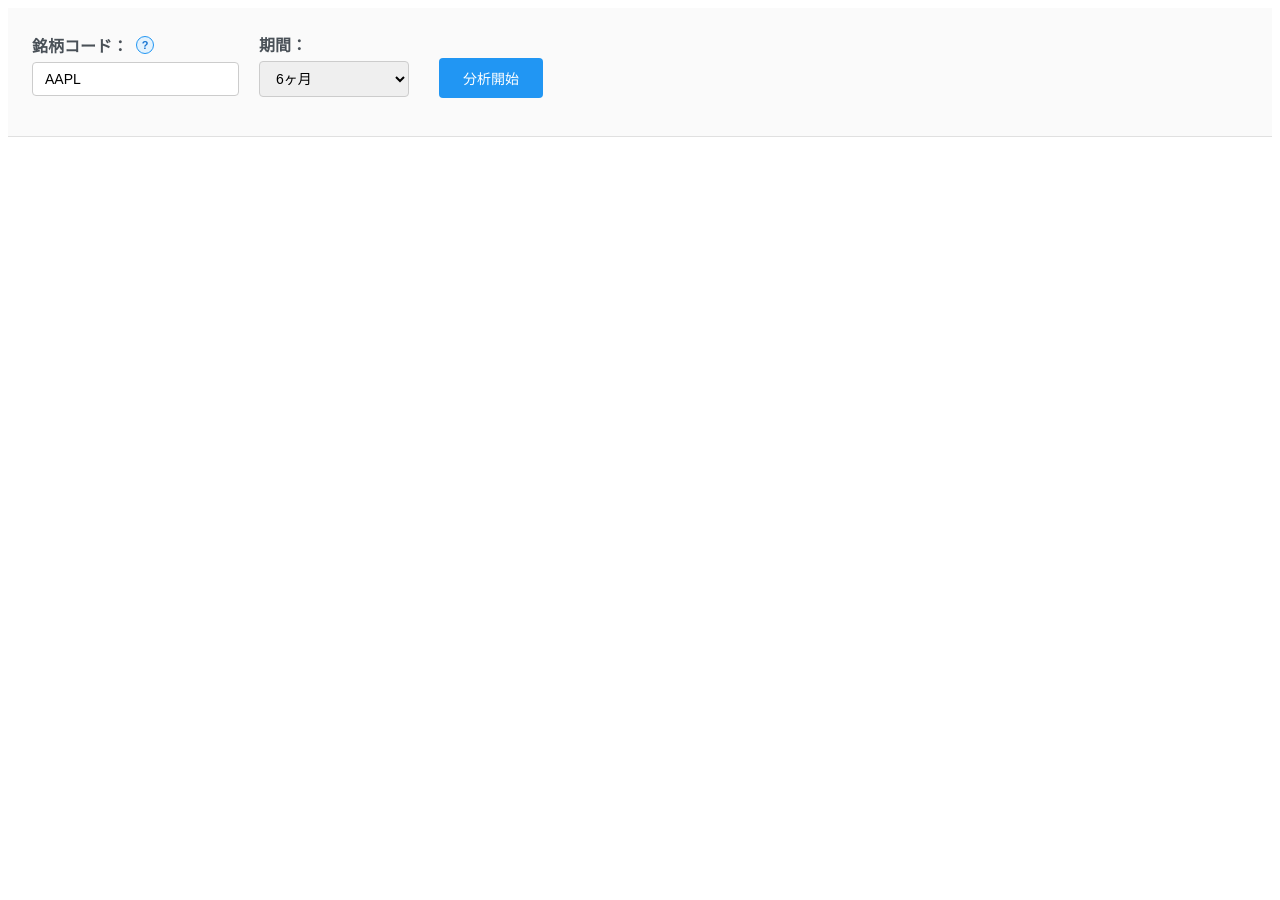
StockForm › ツールチップの閉じるボタンが機能する
// ツールチップを開く
Click the button named "ヘルプを表示" at (145, 45), box 136,36 -> 154,54
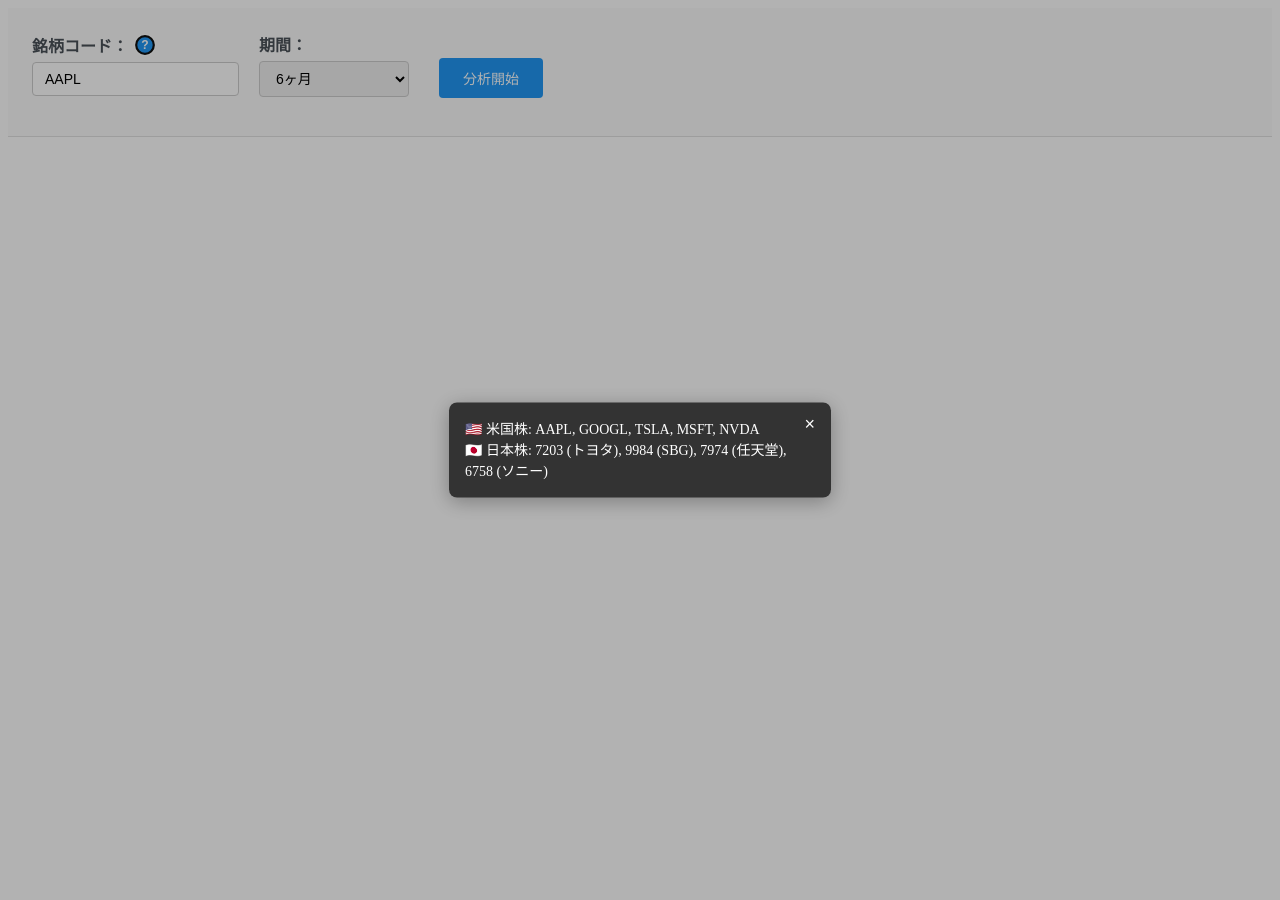
Expected: the text "🇺🇸 米国株" is shown, 465,422 -> 760,436
// 閉じるボタンをクリック
Click the button named "閉じる" at (810, 424), box 800,410 -> 819,436
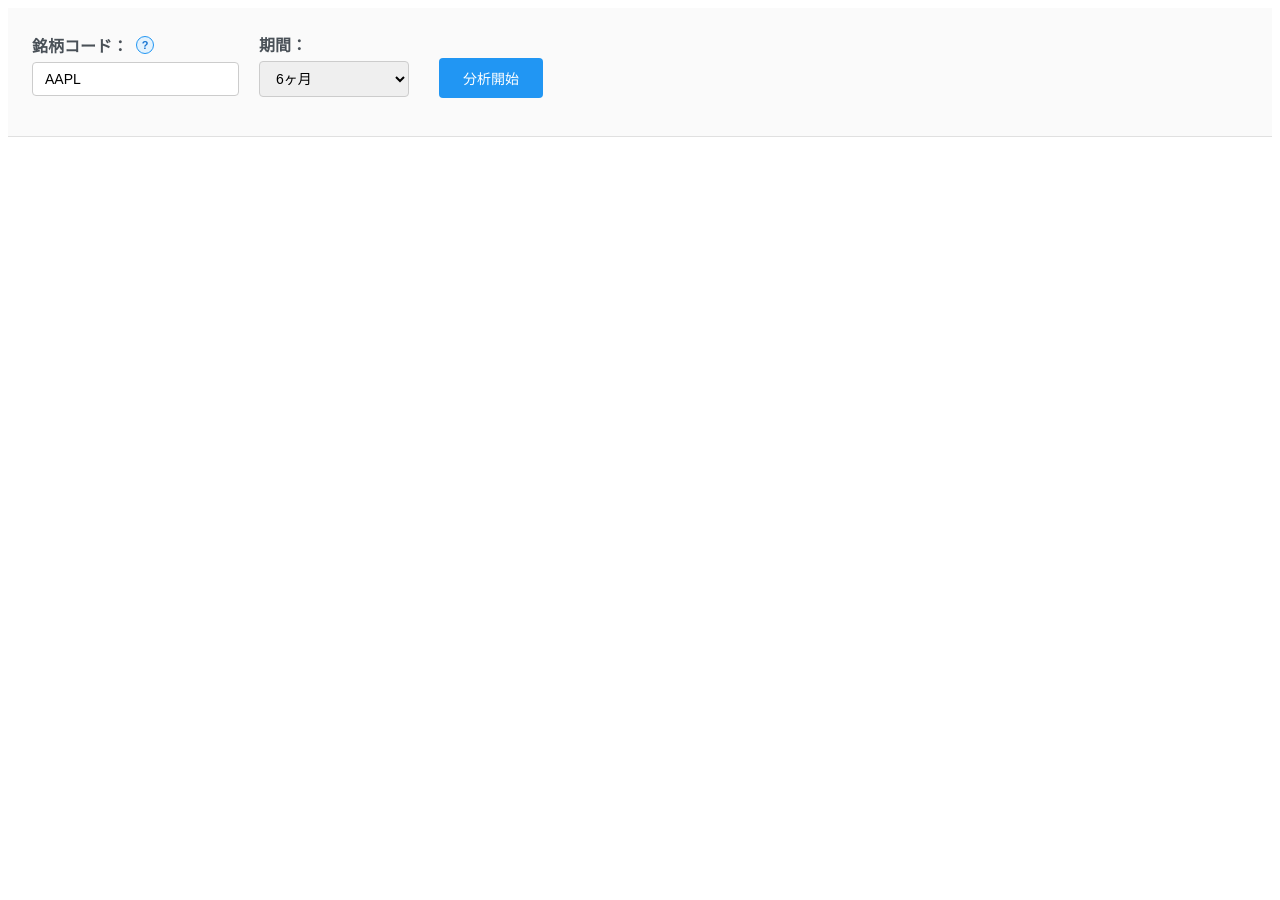
Expected: the text "🇺🇸 米国株" is gone
